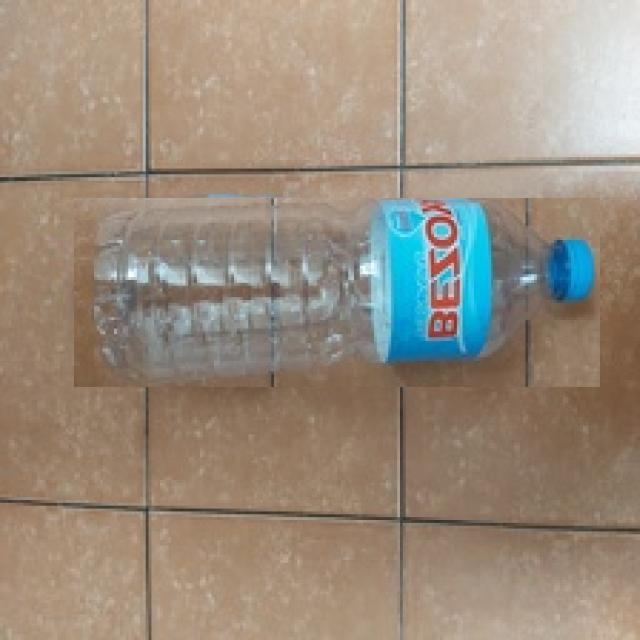good: (74, 198, 600, 387)
